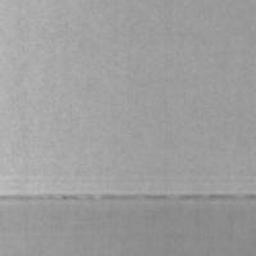Welding line: (0, 192, 256, 204)
